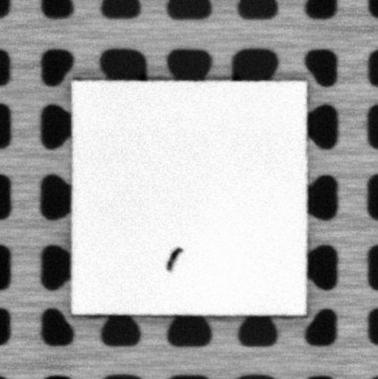DIE_INK: (166, 246, 183, 275)
